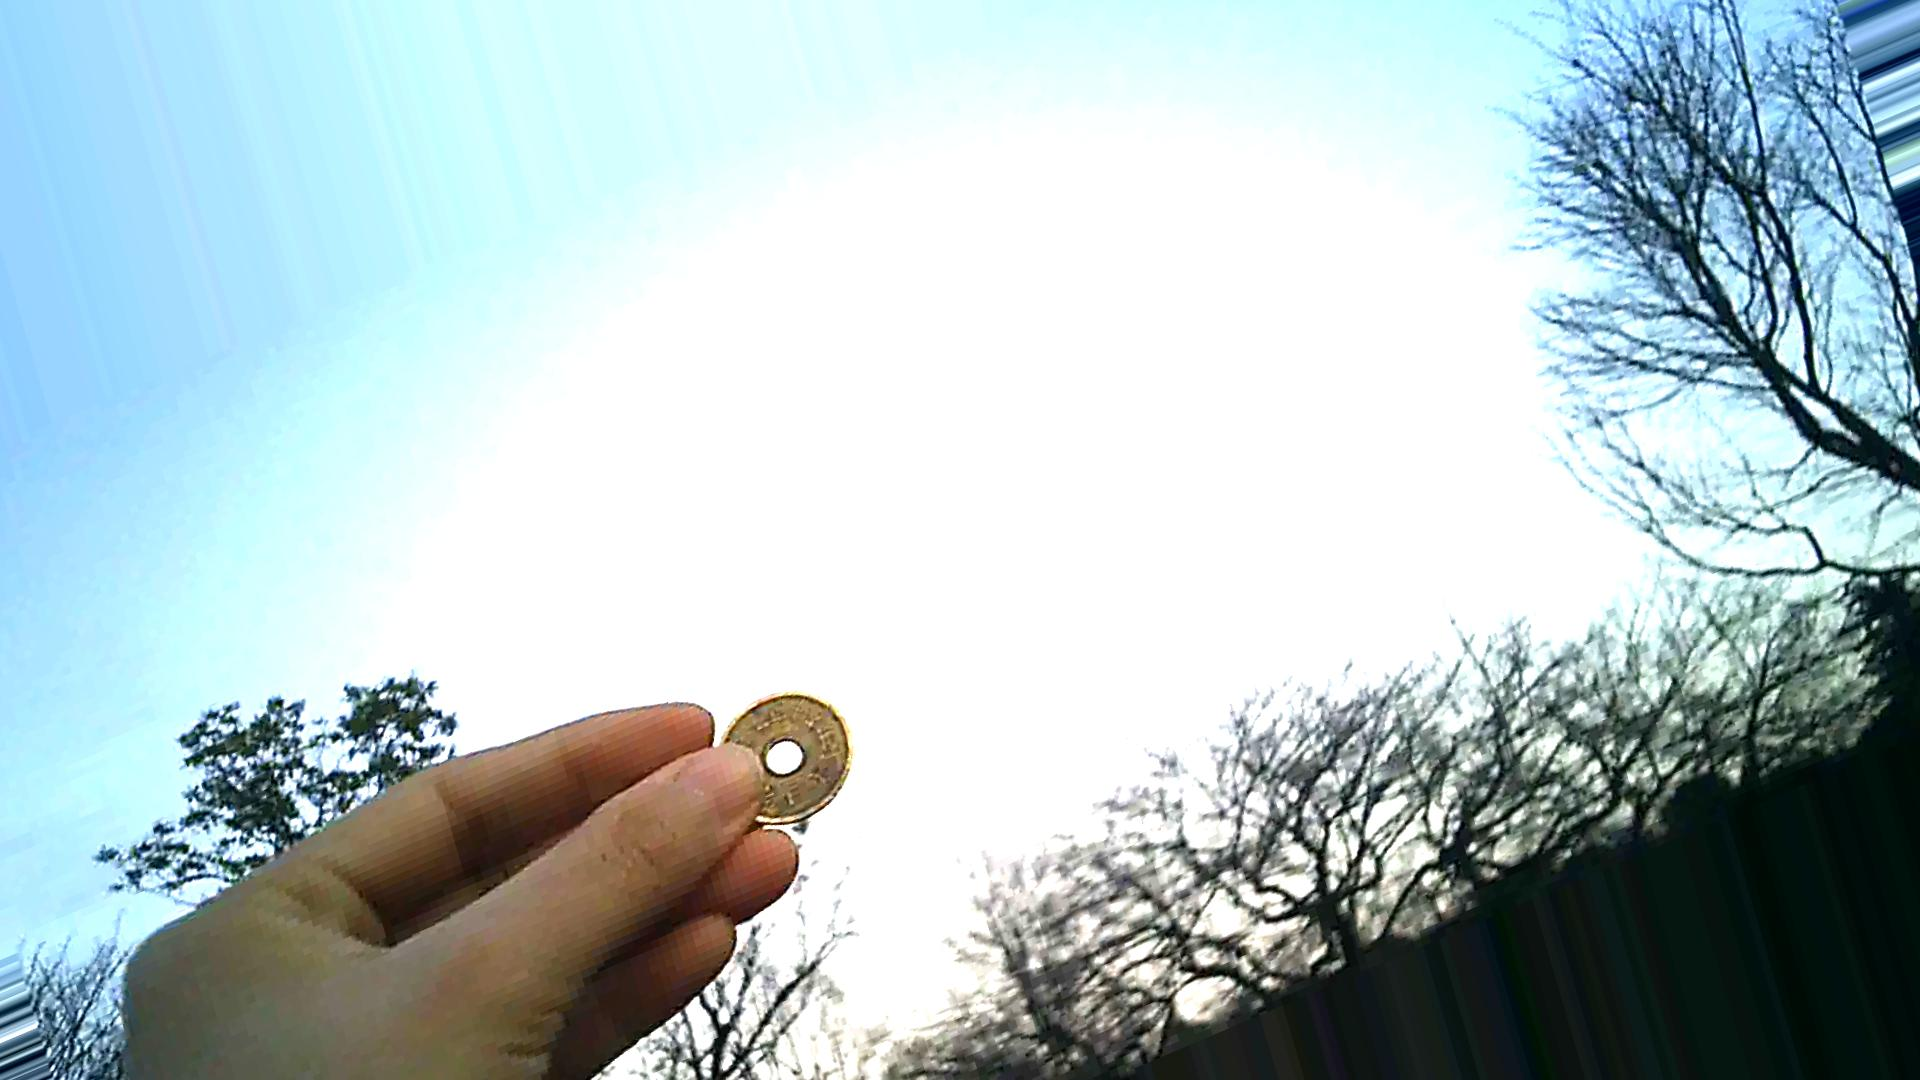5 Yen: (709, 688, 855, 833)
